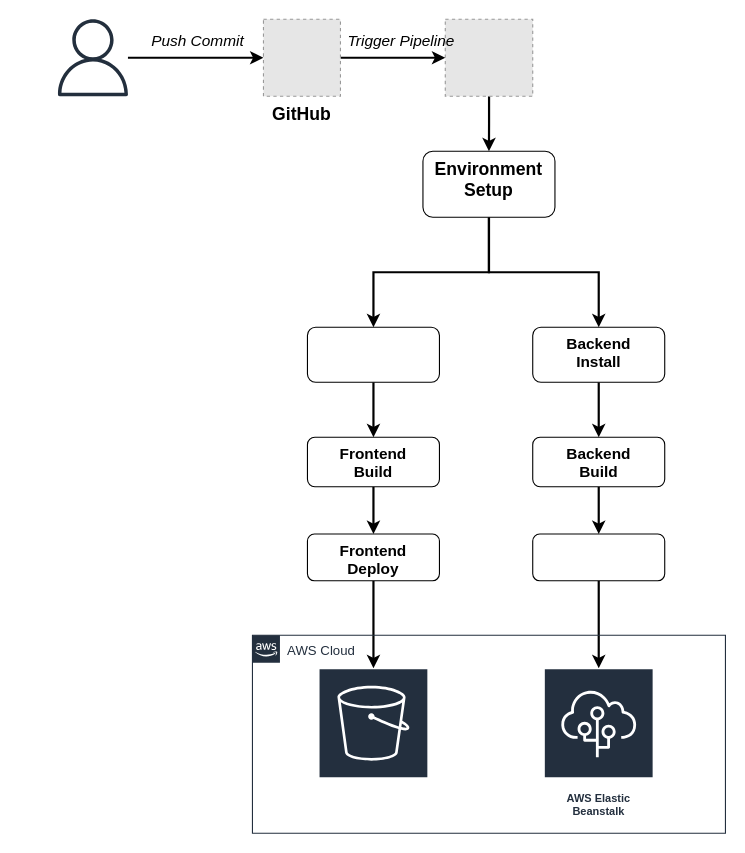
Image size: 745x853. Some labels were removed from this diagram. Grey dashed boxes stand in for pictures. The shapes that lost their labels are listed below. From the top down, each one's centre as x and y in pixels, then its label:
At (92,57): "Full stack developer".
At (372,354): "Frontend Install".
At (598,557): "Backend Deploy".
At (372,733): "Amazon S3".
